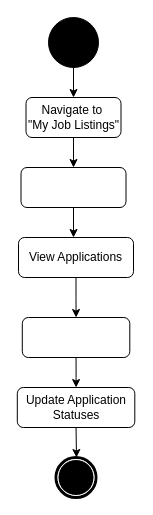
The diagram is 153 pixels wide and 515 high, and some of its shapes have lost their labels. Here are the shapes that lost their labels. From the top down, the box of each, then its label:
(20, 166, 126, 208): Select a Job
(21, 316, 130, 358): Filter/Sort Applications
